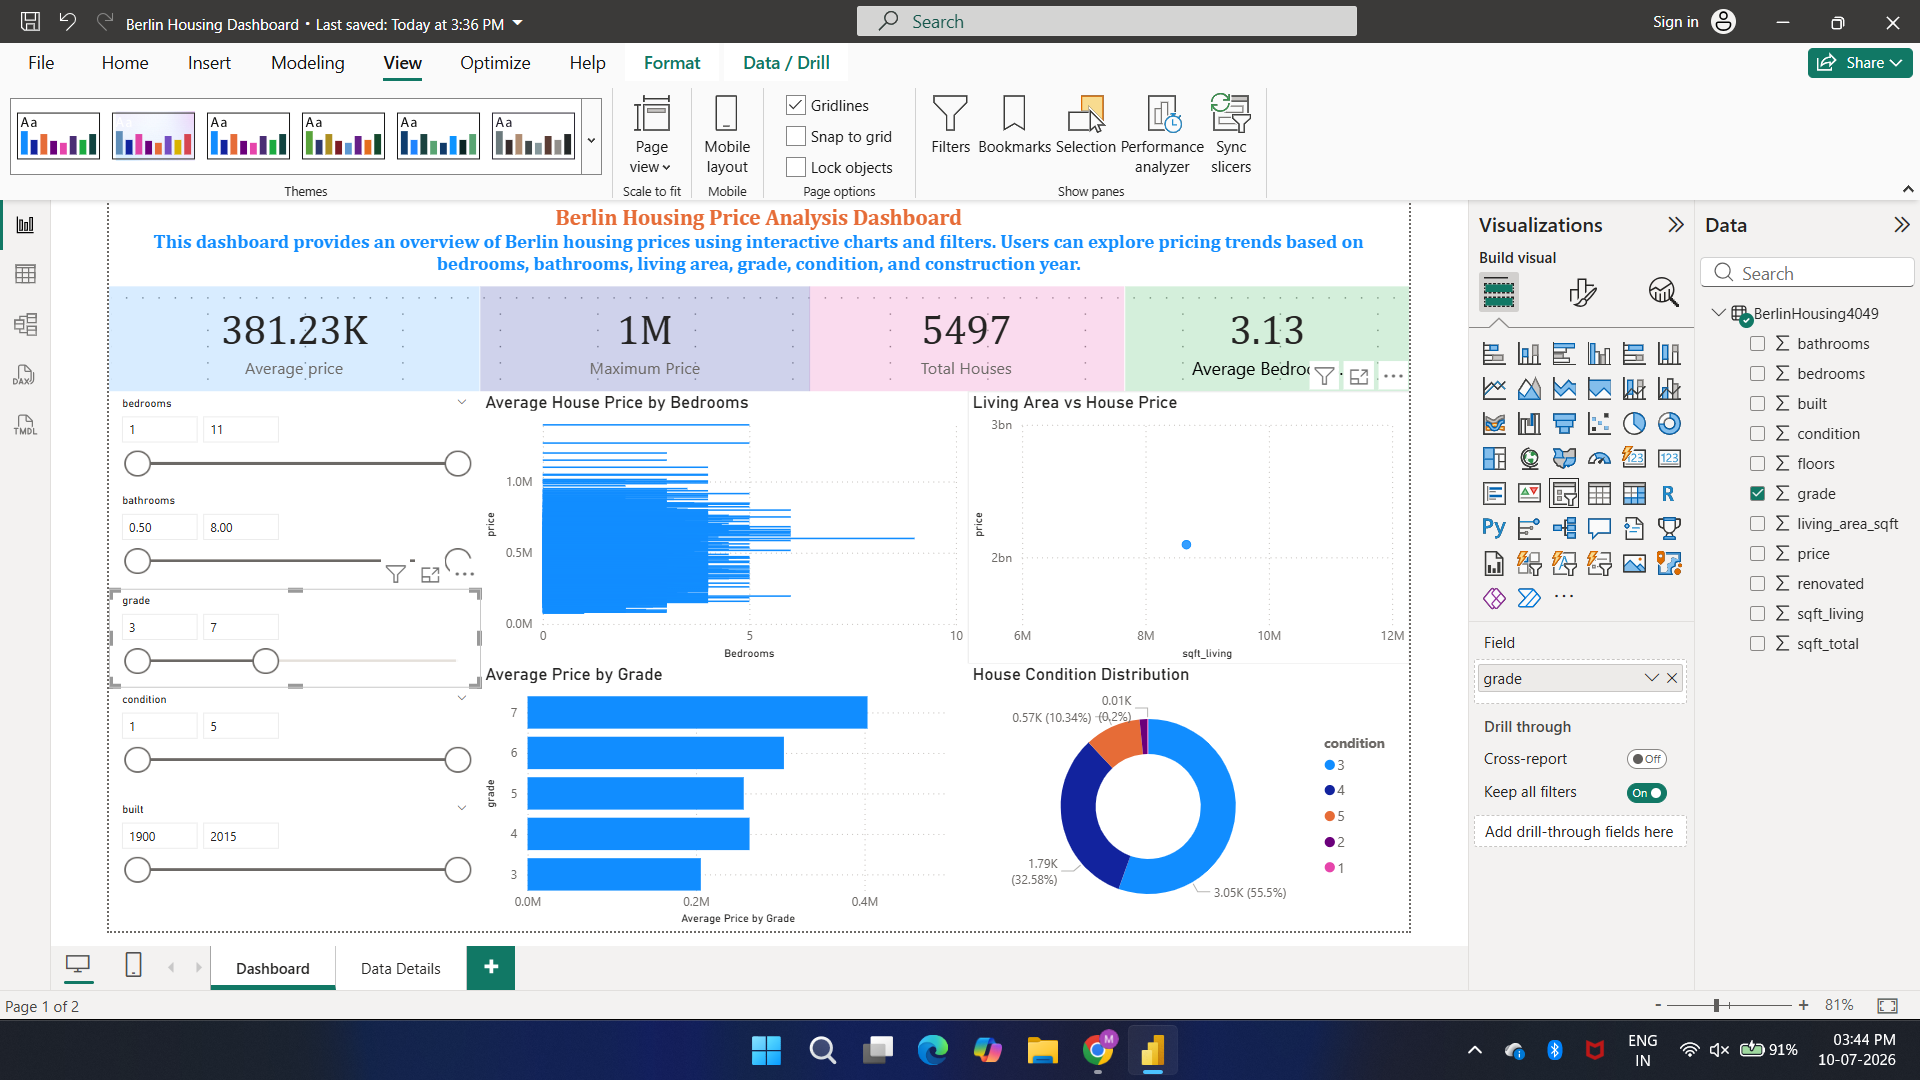

The dashboard page shown, as its layout file describes it:
{"tool":"powerbi","page":{"name":"Dashboard","canvas":[1280,720],"ordinal":0},"visuals":[{"type":"card","fields":{"Values":["Avg(BerlinHousing4049.bedrooms)"]},"box":[1000,84.4,280.5,103.9],"z":0},{"type":"card","fields":{"Values":["CountNonNull(BerlinHousing4049.price)"]},"box":[689.6,84.4,310.4,103.9],"z":1000},{"type":"card","fields":{"Values":["Max(BerlinHousing4049.price)"]},"box":[364.9,84.4,324.7,103.9],"z":2000},{"type":"card","fields":{"Values":["Avg(BerlinHousing4049.price)"]},"box":[0,84.4,364.9,103.9],"z":3000},{"type":"clusteredBarChart","title":"Average House Price by Bedrooms","fields":{"Category":["BerlinHousing4049.price"],"Y":["Avg(BerlinHousing4049.bedrooms)"]},"box":[364.9,188.3,480.5,268.8],"z":4000},{"type":"scatterChart","title":"Living Area vs House Price","fields":{"X":["Sum(BerlinHousing4049.sqft_living)"],"Y":["Sum(BerlinHousing4049.price)"]},"box":[845.5,188.3,435.1,268.8],"z":5000},{"type":"clusteredBarChart","title":"Average Price by Grade","fields":{"Category":["BerlinHousing4049.grade"],"Y":["Avg(BerlinHousing4049.price)"]},"box":[364.9,457.1,480.5,262.3],"z":6000},{"type":"donutChart","title":"House Condition Distribution","fields":{"Category":["BerlinHousing4049.condition"],"Y":["CountNonNull(BerlinHousing4049.condition)"]},"box":[845.5,457.1,433.8,262.3],"z":7000},{"type":"slicer","fields":{"Values":["BerlinHousing4049.bedrooms"]},"box":[0,188.3,364.9,96.1],"z":8000},{"type":"slicer","fields":{"Values":["BerlinHousing4049.bathrooms"]},"box":[0,284.4,364.9,98.7],"z":9000},{"type":"slicer","fields":{"Values":["BerlinHousing4049.grade"]},"box":[0,383.1,364.9,97.4],"z":10000},{"type":"slicer","fields":{"Values":["BerlinHousing4049.condition"]},"box":[0,480.5,364.9,107.8],"z":11000},{"type":"slicer","fields":{"Values":["BerlinHousing4049.built"]},"box":[0,588.3,364.9,131.2],"z":12000},{"type":"textbox","box":[0,0,1279.2,84.4],"z":13000}]}

Visuals, with their boxes on the page's 1280x720 design canvas (x1, y1, x2, y2). These are canvas units, not pixel positions in the 1920x1080 screenshot, which may show the page scaled, cropped or inside an application window:
card - Avg(BerlinHousing4049.bedrooms): box=[1000, 84, 1280, 188]
card - CountNonNull(BerlinHousing4049.price): box=[690, 84, 1000, 188]
card - Max(BerlinHousing4049.price): box=[365, 84, 690, 188]
card - Avg(BerlinHousing4049.price): box=[0, 84, 365, 188]
"Average House Price by Bedrooms" clusteredBarChart: box=[365, 188, 845, 457]
"Living Area vs House Price" scatterChart: box=[846, 188, 1281, 457]
"Average Price by Grade" clusteredBarChart: box=[365, 457, 845, 719]
"House Condition Distribution" donutChart: box=[846, 457, 1279, 719]
slicer - BerlinHousing4049.bedrooms: box=[0, 188, 365, 284]
slicer - BerlinHousing4049.bathrooms: box=[0, 284, 365, 383]
slicer - BerlinHousing4049.grade: box=[0, 383, 365, 480]
slicer - BerlinHousing4049.condition: box=[0, 480, 365, 588]
slicer - BerlinHousing4049.built: box=[0, 588, 365, 720]
textbox: box=[0, 0, 1279, 84]
